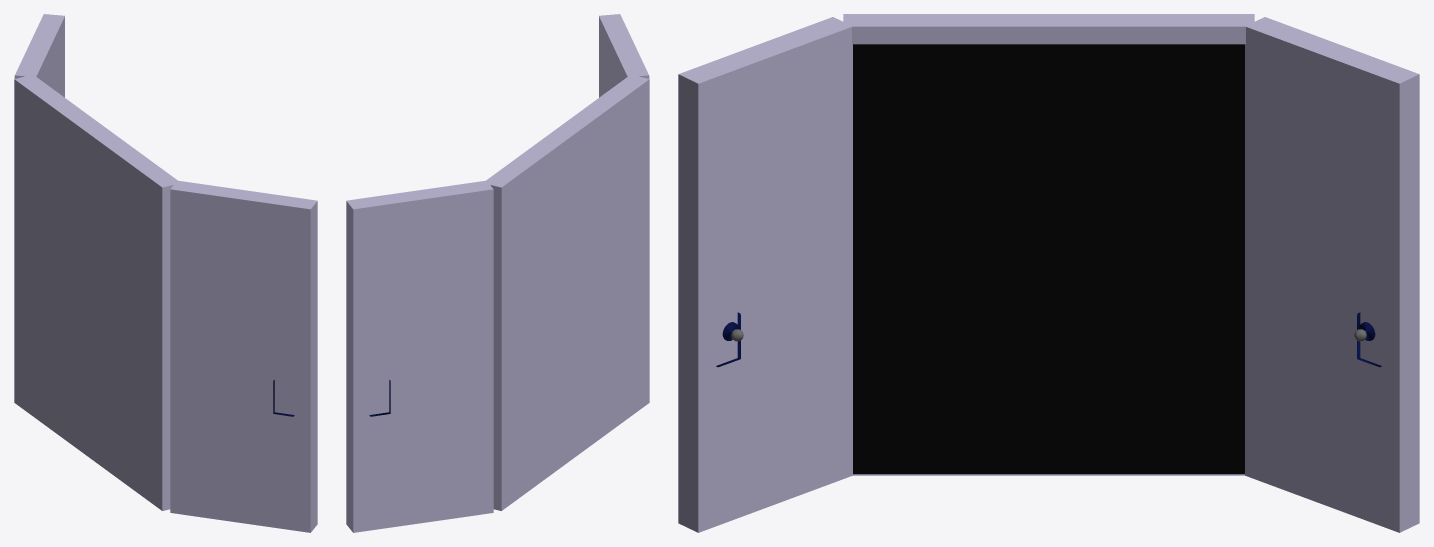
The model's file is DoorAAAAAAwhat thefuck.fbx.
The picture shows the model from 3 angles, left to right: view 1: azimuth 30°, elevation 25°; view 2: azimuth 150°, elevation 25°; view 3: azimuth 270°, elevation 25°; orthographic projection. The views are drawn at different scales.
Parts seen in each view (by area): view 1: Door.001; view 2: Door.001; view 3: Door.001.
Boxes of the visible parts, box(x1,y1,x2,y2) form: Door.001: box(14, 14, 317, 532); Door.001: box(346, 14, 649, 532); Door.001: box(678, 14, 1419, 532).
Bounding box in the file's own units: 1669 × 372 × 1117.
